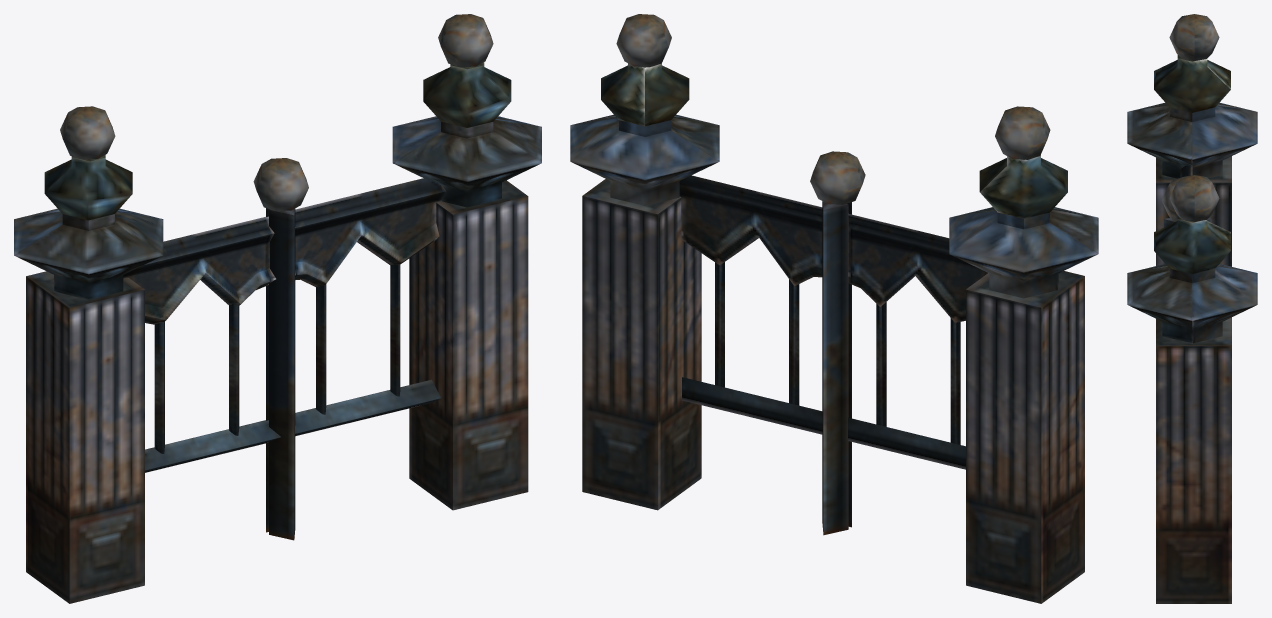
The model's file is SM_zhucheng_xiaoweiqiang02.FBX.
3 views of the same model, side by side, from view 1: azimuth 30°, elevation 25°; view 2: azimuth 150°, elevation 25°; view 3: azimuth 270°, elevation 25° (orthographic). The views are drawn at different scales.
Visible parts, largest first — view 1: SM_zhucheng_xiaoweiqiang02; view 2: SM_zhucheng_xiaoweiqiang02; view 3: SM_zhucheng_xiaoweiqiang02.
Part boxes in pixels (<box>): SM_zhucheng_xiaoweiqiang02: <box>14,14,541,603</box>; SM_zhucheng_xiaoweiqiang02: <box>570,14,1098,603</box>; SM_zhucheng_xiaoweiqiang02: <box>1127,14,1257,603</box>.
Bounding box in the file's own units: 304 × 259 × 74.4.
